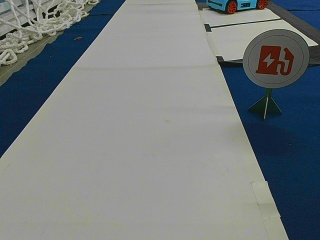battery: (244, 29, 308, 88)
car: (206, 1, 266, 13)
